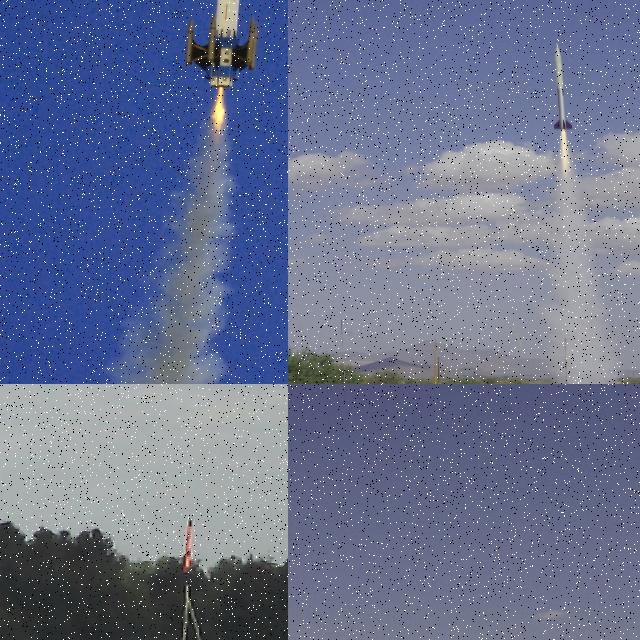Rocket: (185, 0, 261, 90), (554, 42, 572, 129), (182, 518, 196, 572)
